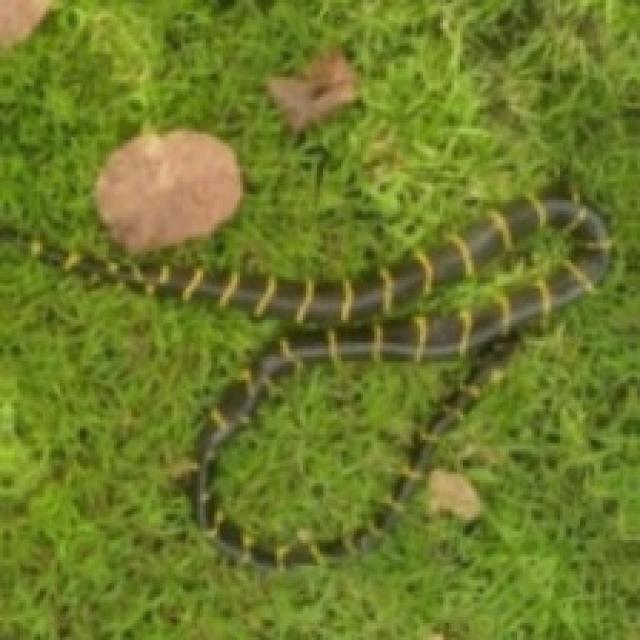mangrove cat snake: (0, 186, 609, 566)
